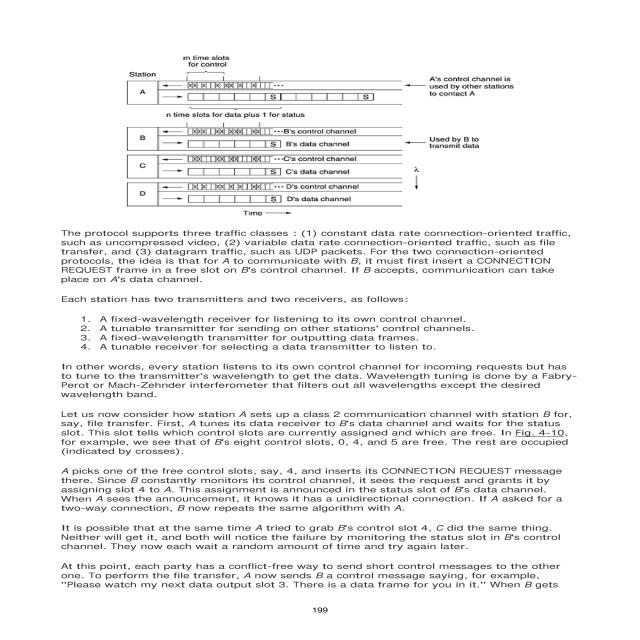diagram: (52, 23, 626, 213)
